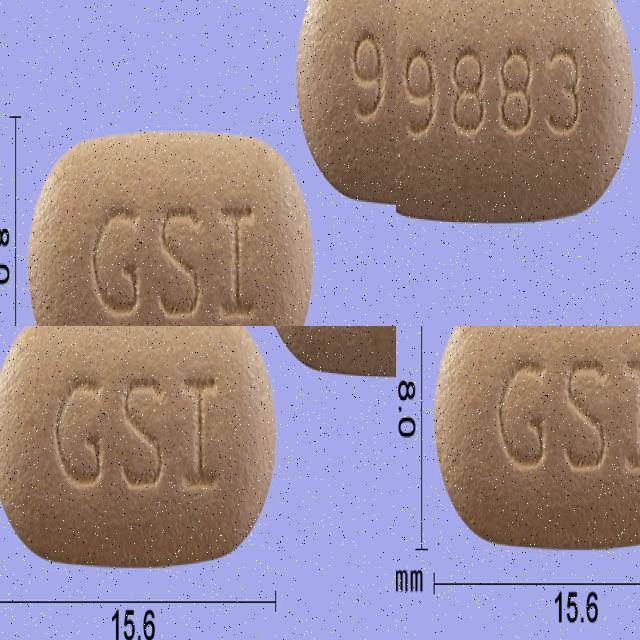Biktarvy: (430, 326, 640, 553)
Clevote: (0, 326, 236, 567), (272, 326, 396, 570)
Clithocin: (26, 147, 317, 326), (296, 0, 396, 189)
Craycin: (396, 0, 640, 194)
